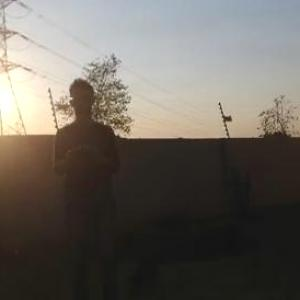follow: (51, 73, 125, 299)
